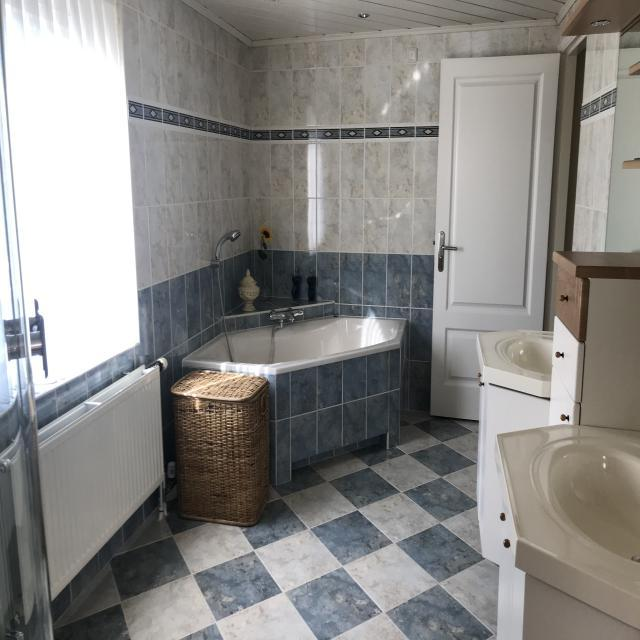bath: (180, 303, 410, 402)
douche: (0, 0, 57, 640)
wastafel: (473, 328, 640, 640), (497, 489, 640, 640), (473, 350, 554, 566)
